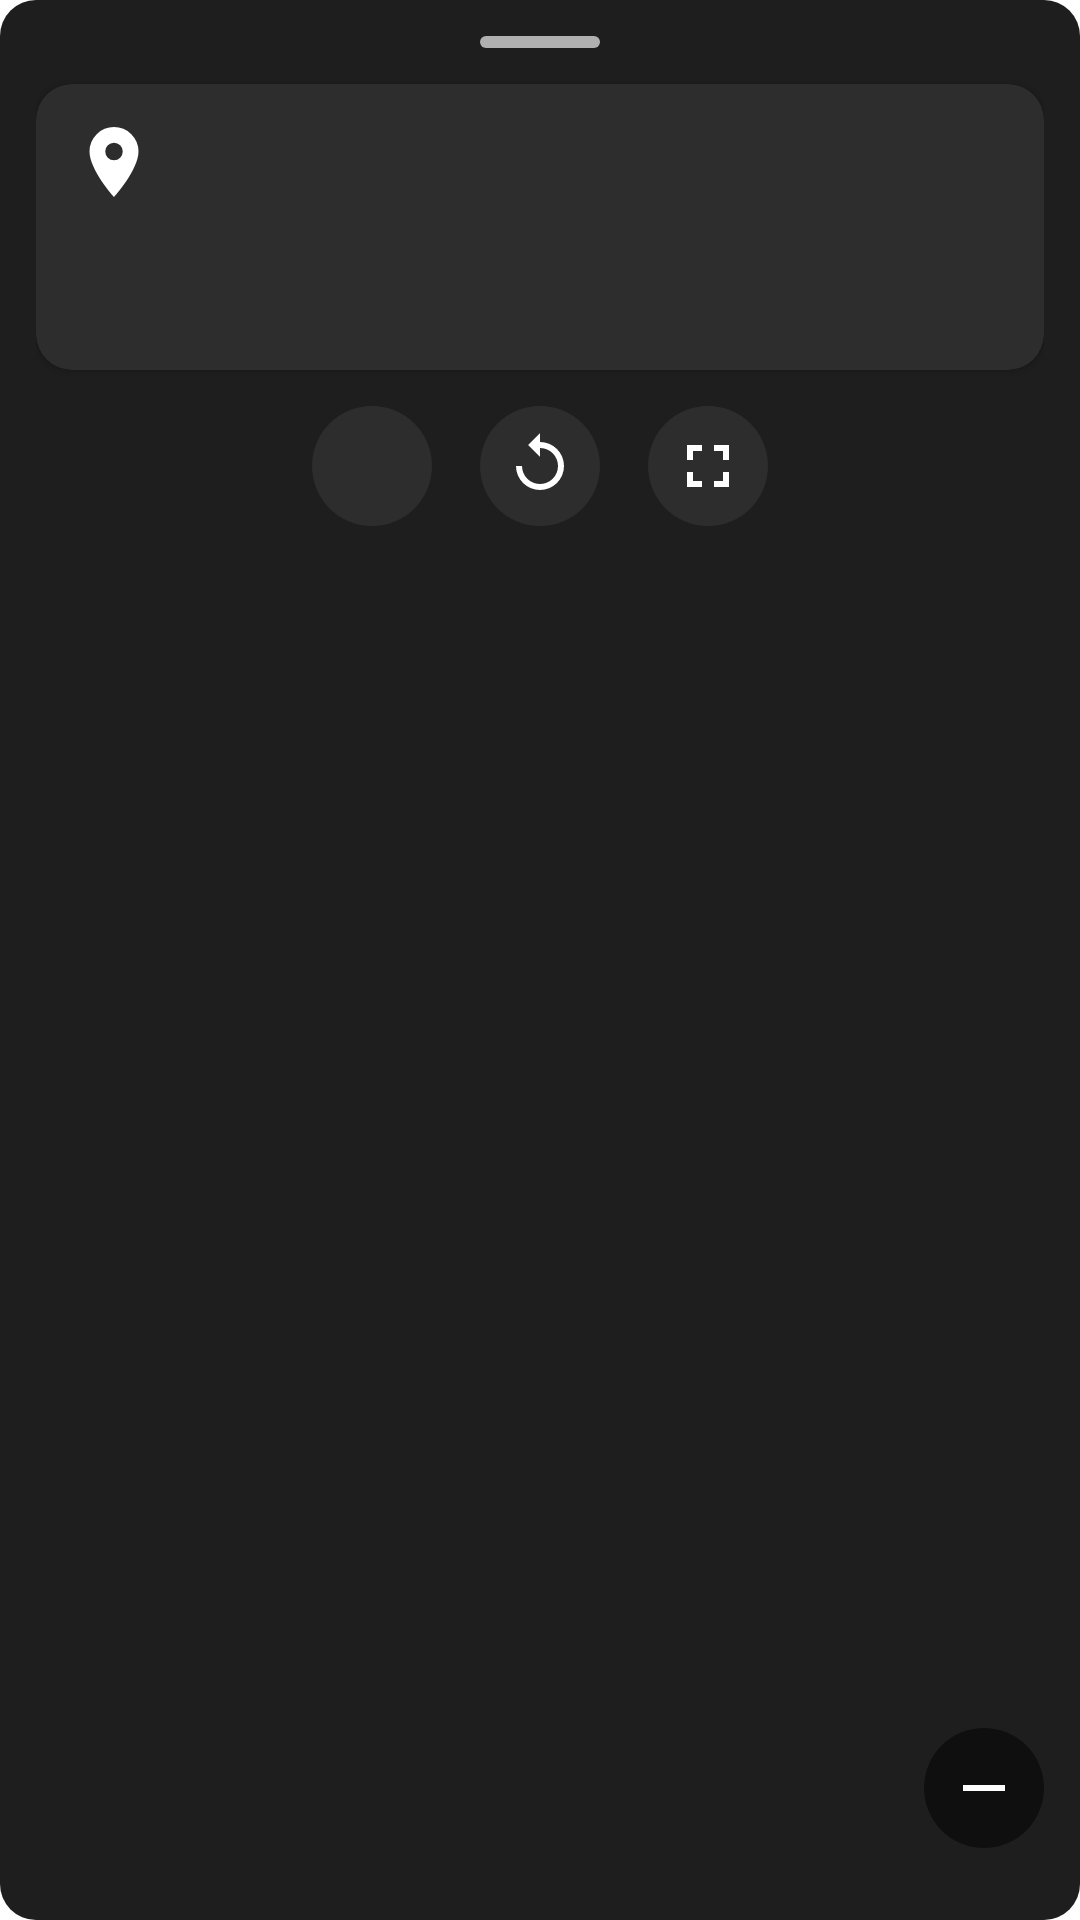

Where to tap for icons on this 1080×1920 app screen, as (x,y):
destination: (114,162)
全屏导航: (708,466)
重新规划: (540,466)
